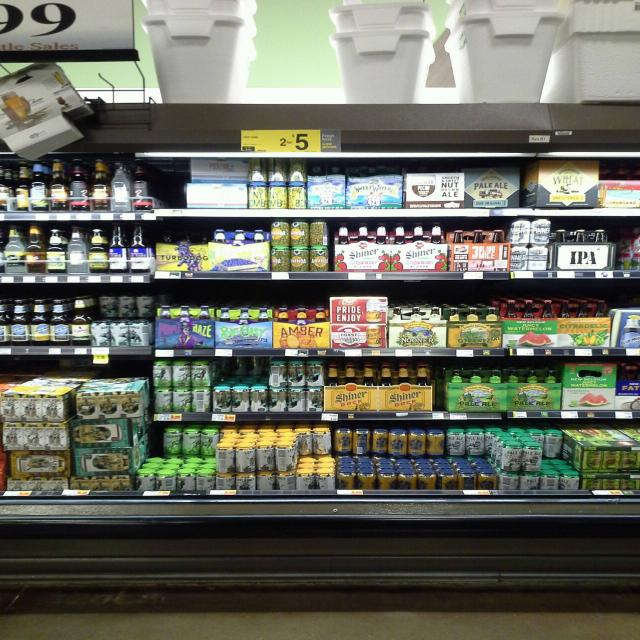empty: (150, 160, 188, 212)
